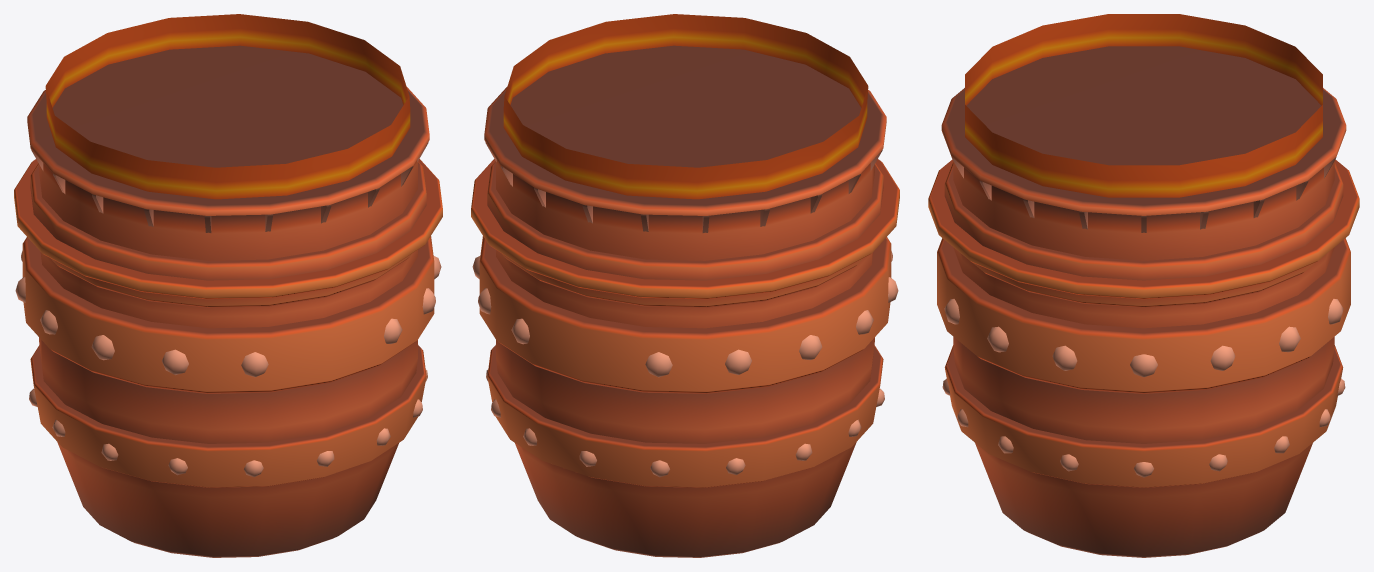
File: meltingpot_001_002.fbx
3 renders of one model, left to right at view 1: azimuth 30°, elevation 25°; view 2: azimuth 150°, elevation 25°; view 3: azimuth 270°, elevation 25°, orthographic.
Parts seen in each view (by area): view 1: meltingpot_001_002; view 2: meltingpot_001_002; view 3: meltingpot_001_002.
Part boxes in pixels (box(x1,y1,x2,y2)): meltingpot_001_002: box(14, 14, 442, 557); meltingpot_001_002: box(471, 14, 899, 557); meltingpot_001_002: box(928, 14, 1359, 557).
Size of the model in its own units: 734 by 734 by 767.
